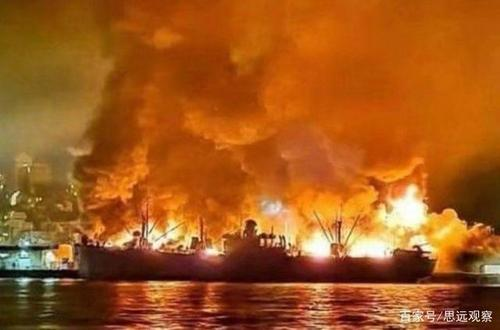fire: (87, 198, 448, 275)
smoke: (113, 14, 474, 177)
